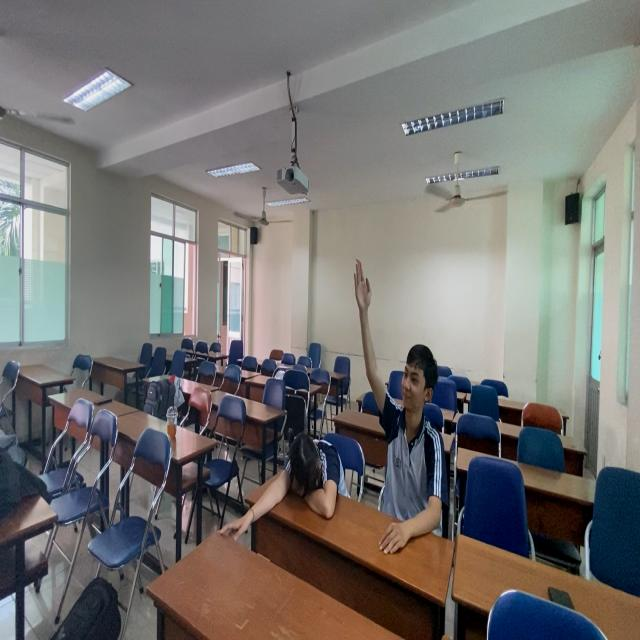raise_hand: (352, 259, 462, 558)
sleep: (245, 420, 350, 551)
